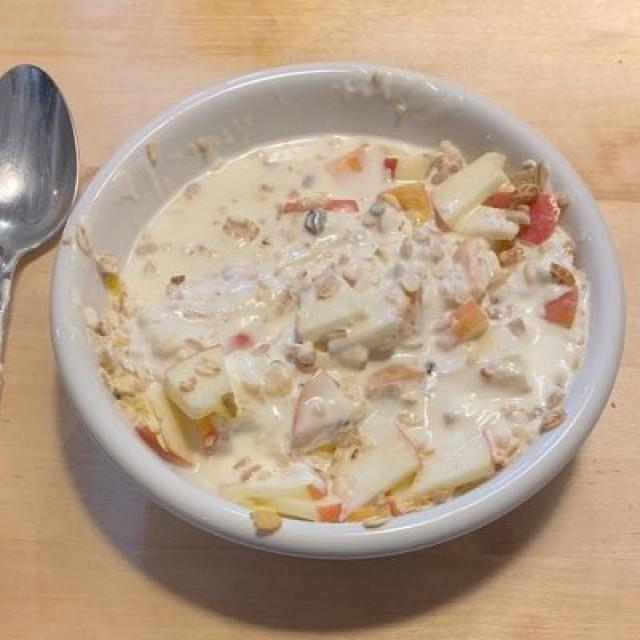birchermuesli: (105, 142, 579, 514)
